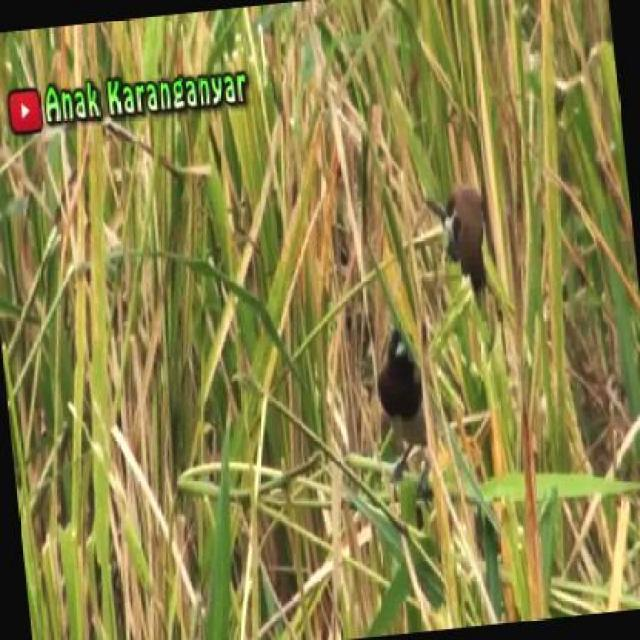Bird: (429, 176, 493, 313), (366, 315, 424, 436)
